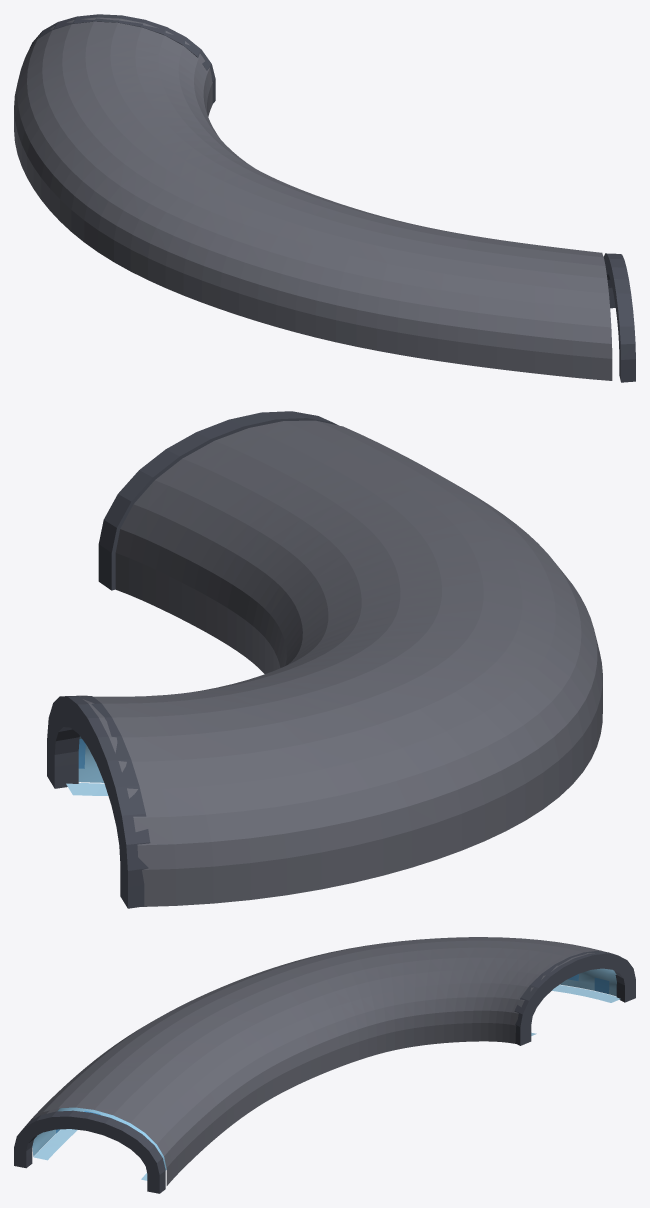
The model's file is SV_IceCave.fbx.
3 renders of one model, top to bottom at view 1: azimuth 30°, elevation 25°; view 2: azimuth 150°, elevation 25°; view 3: azimuth 270°, elevation 25°, orthographic. The views are drawn at different scales.
Visible parts, largest first — view 1: SV_UNQ_IceCave_Rock, SV_UNQ_IceCave_RockDark; view 2: SV_UNQ_IceCave_Rock, SV_UNQ_IceCave_RockDark; view 3: SV_UNQ_IceCave_Rock, SV_UNQ_IceCave_RockDark, SV_UNQ_IceCave_Glacier, SV_UNQ_IceCave_Ice.
Boxes of the visible parts, box(x1,y1,x2,y2) form: SV_UNQ_IceCave_Rock: box(14, 17, 612, 380); SV_UNQ_IceCave_RockDark: box(29, 14, 635, 382); SV_UNQ_IceCave_Rock: box(79, 420, 602, 906); SV_UNQ_IceCave_RockDark: box(47, 411, 338, 908); SV_UNQ_IceCave_Rock: box(30, 937, 605, 1185); SV_UNQ_IceCave_RockDark: box(14, 951, 635, 1193); SV_UNQ_IceCave_Glacier: box(32, 968, 616, 1169); SV_UNQ_IceCave_Ice: box(33, 985, 620, 1180).
Bounding box in the file's own units: 285 × 109 × 459.
